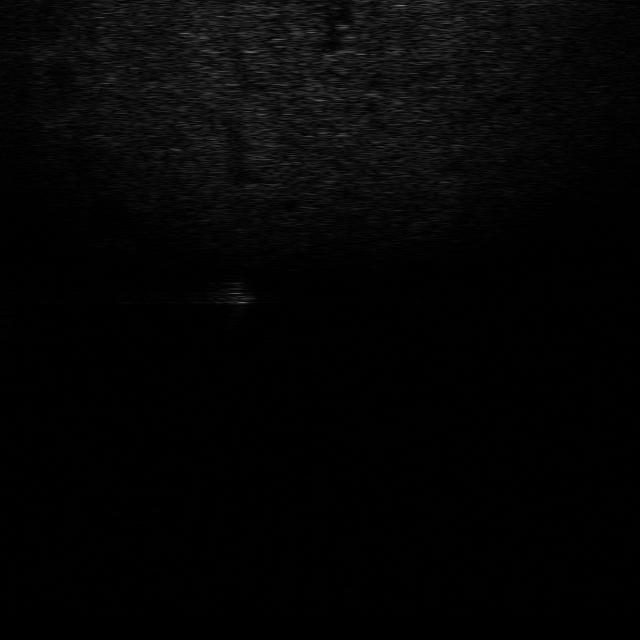human body: (209, 272, 256, 330)
